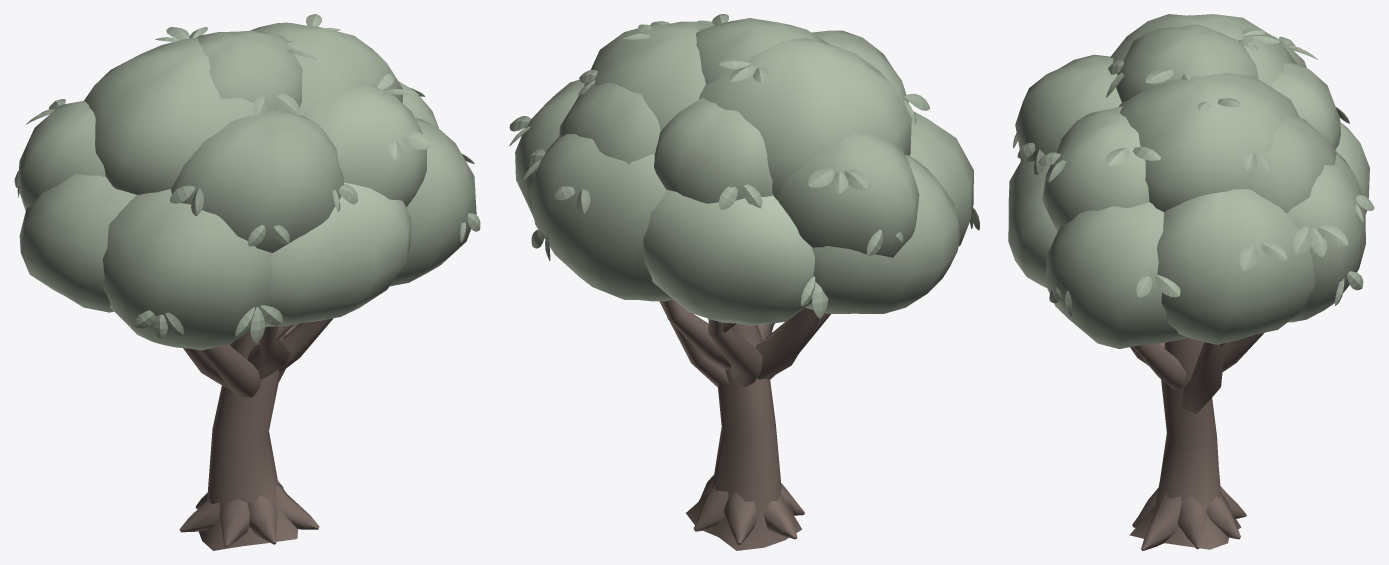
Rendered from SM_ForestRoundOak.fbx.
The picture shows the model from 3 angles, left to right: view 1: azimuth 30°, elevation 25°; view 2: azimuth 150°, elevation 25°; view 3: azimuth 270°, elevation 25°; orthographic projection.
Visible parts, largest first — view 1: SM_ForestRoundOak; view 2: SM_ForestRoundOak; view 3: SM_ForestRoundOak.
Boxes of the visible parts, x1,y1,x2,y2 form: SM_ForestRoundOak: (14,14,480,550); SM_ForestRoundOak: (509,14,979,550); SM_ForestRoundOak: (1008,14,1374,550).
Size of what is drawn, in the model's own units: 5.09 by 3.89 by 5.83.
